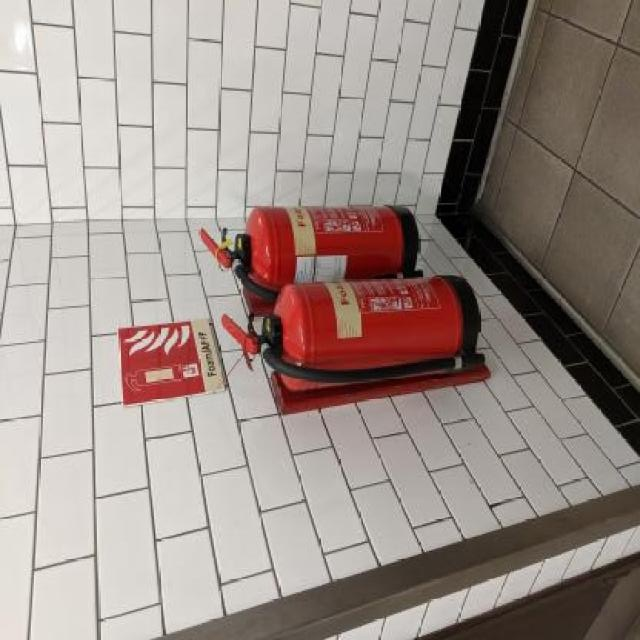fire extinguisher: (221, 273, 485, 392), (199, 207, 419, 302)
